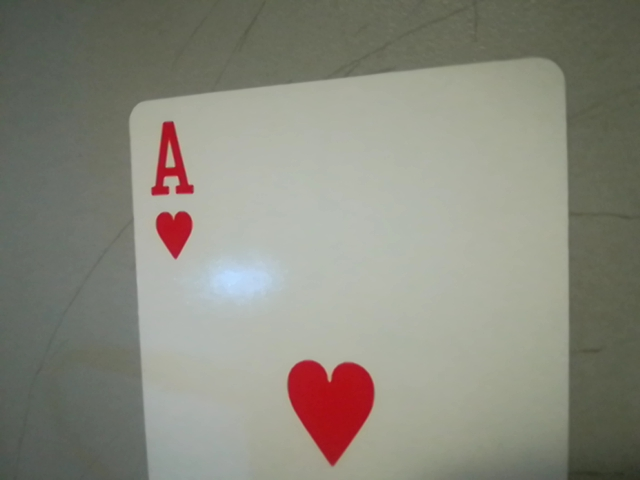hx a: (133, 110, 207, 273)
